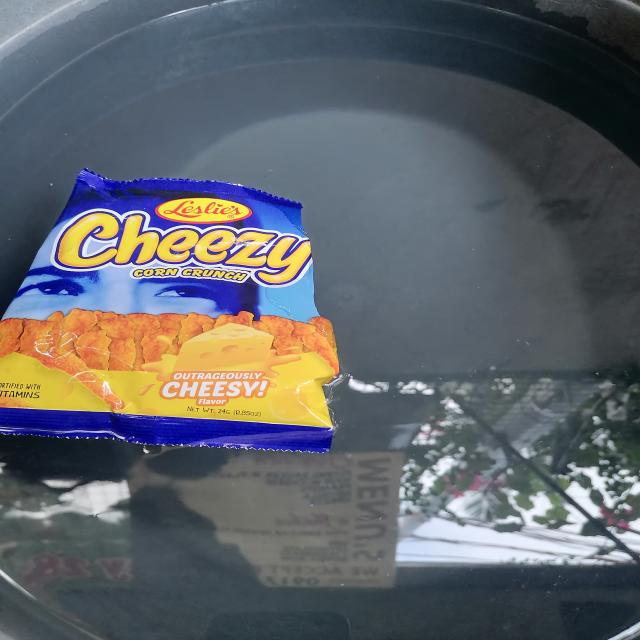Plastic Wrapper: (0, 169, 339, 452)
